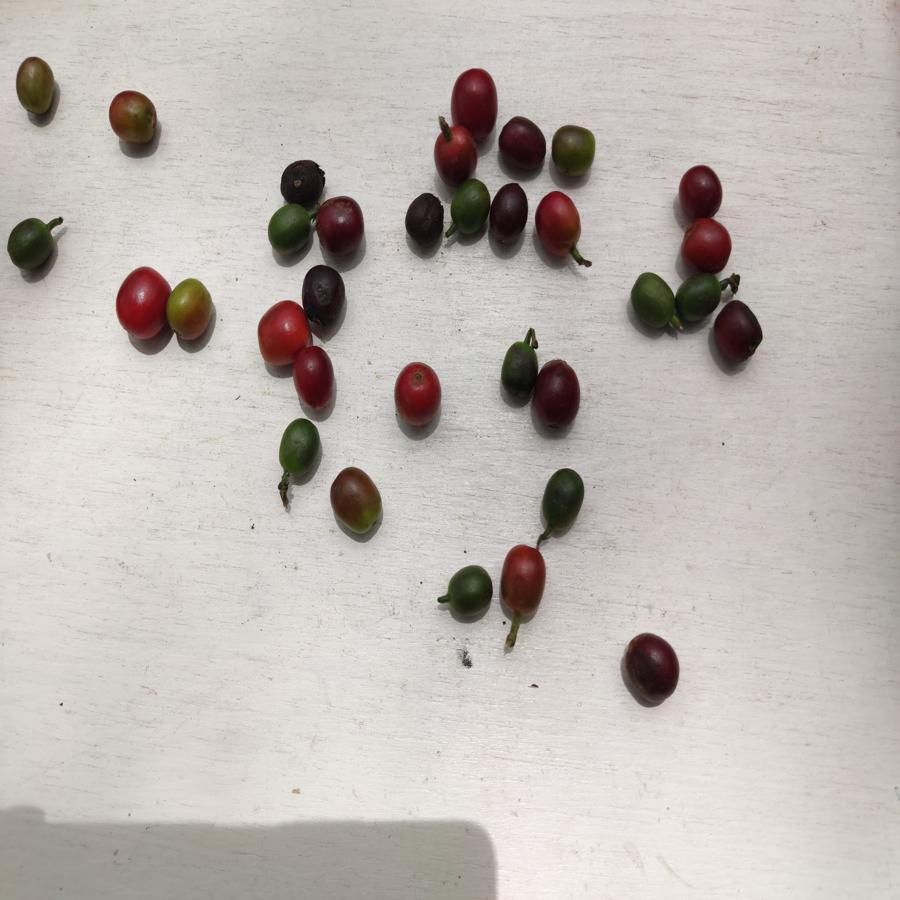Inmaduro: (7, 215, 59, 275), (628, 268, 676, 332), (542, 469, 584, 536), (447, 564, 495, 622), (265, 204, 314, 259), (277, 419, 319, 476), (498, 341, 536, 401), (450, 182, 489, 239), (678, 274, 724, 322)
Maduro: (388, 358, 443, 435), (499, 542, 551, 620), (253, 302, 310, 373), (116, 268, 167, 343), (534, 189, 588, 259), (680, 217, 734, 276), (435, 126, 480, 179)
Pinton: (328, 465, 385, 535), (164, 275, 218, 346), (11, 54, 65, 118), (108, 87, 159, 150), (550, 123, 600, 174)
Sobremaduro: (623, 631, 685, 707), (535, 357, 581, 432), (714, 300, 763, 365), (290, 347, 338, 413), (452, 69, 499, 136), (497, 116, 550, 173), (317, 196, 364, 257), (302, 266, 349, 324), (403, 192, 446, 251), (490, 181, 530, 243), (677, 163, 724, 215), (278, 157, 331, 201)
